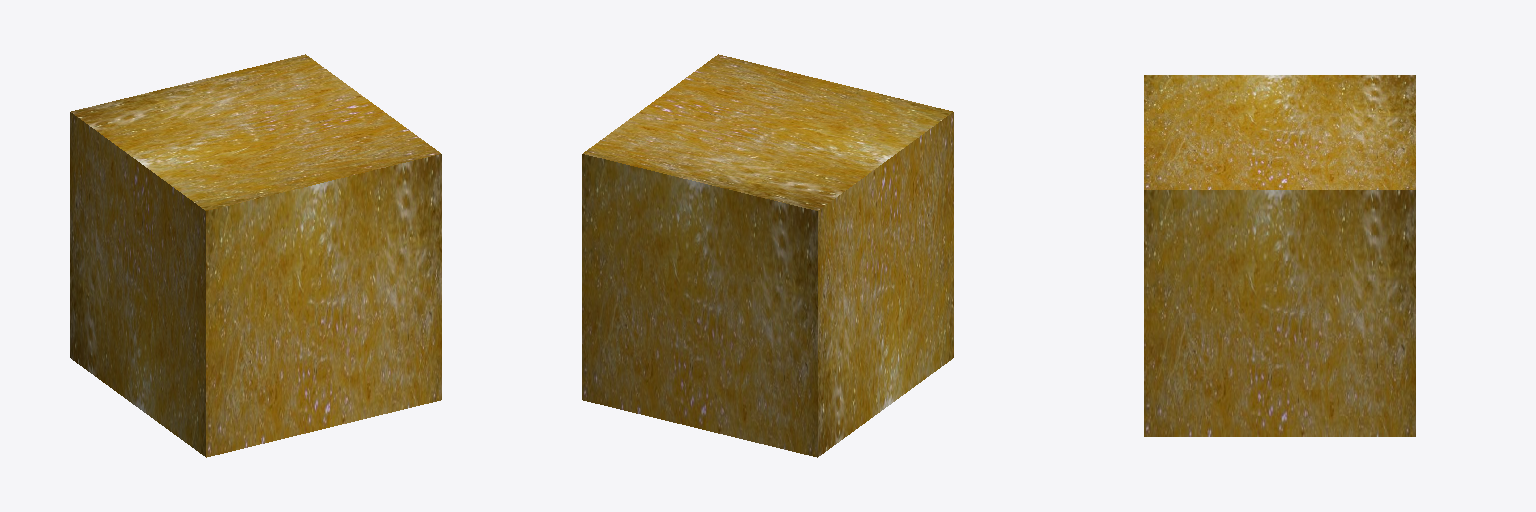
3 renders of one model, left to right at view 1: azimuth 30°, elevation 25°; view 2: azimuth 150°, elevation 25°; view 3: azimuth 270°, elevation 25°, orthographic.
Parts seen in each view (by area): view 1: Cube; view 2: Cube; view 3: Cube.
Boxes of the visible parts, x1,y1,x2,y2 form: Cube: [70, 54, 441, 457]; Cube: [582, 54, 953, 457]; Cube: [1144, 75, 1415, 436].
Bounding box in the file's own units: 2 × 2 × 2.
1 materials, 1 textured.